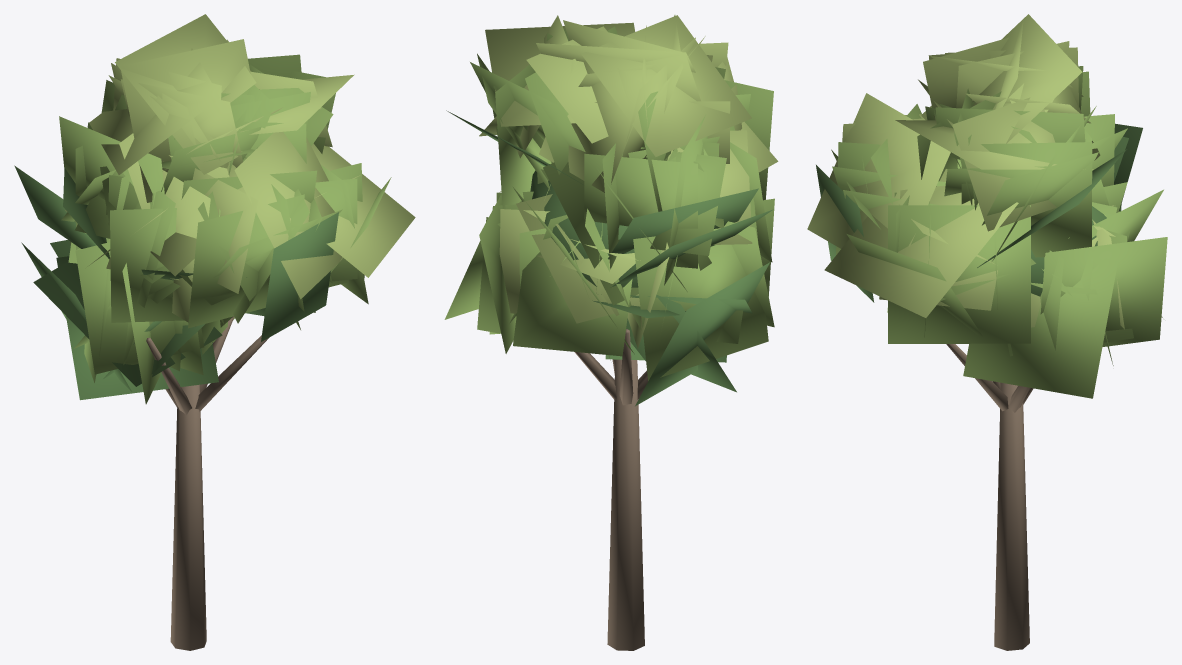
The model's file is maple.glb.
3 renders of one model, left to right at view 1: azimuth 30°, elevation 25°; view 2: azimuth 150°, elevation 25°; view 3: azimuth 270°, elevation 25°, orthographic. The views are drawn at different scales.
Visible parts, largest first — view 1: maple; view 2: maple; view 3: maple.
Boxes of the visible parts, x1,y1,x2,y2 form: maple: [14, 14, 415, 650]; maple: [444, 15, 778, 650]; maple: [807, 14, 1167, 650].
Size of the model in its own units: 5.56 by 9.48 by 5.19.
